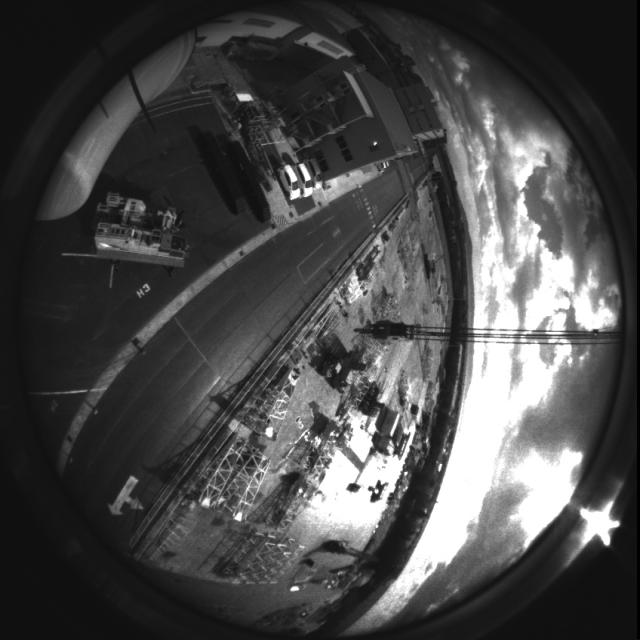rope: (343, 314, 638, 349)
sky: (322, 2, 620, 637)
